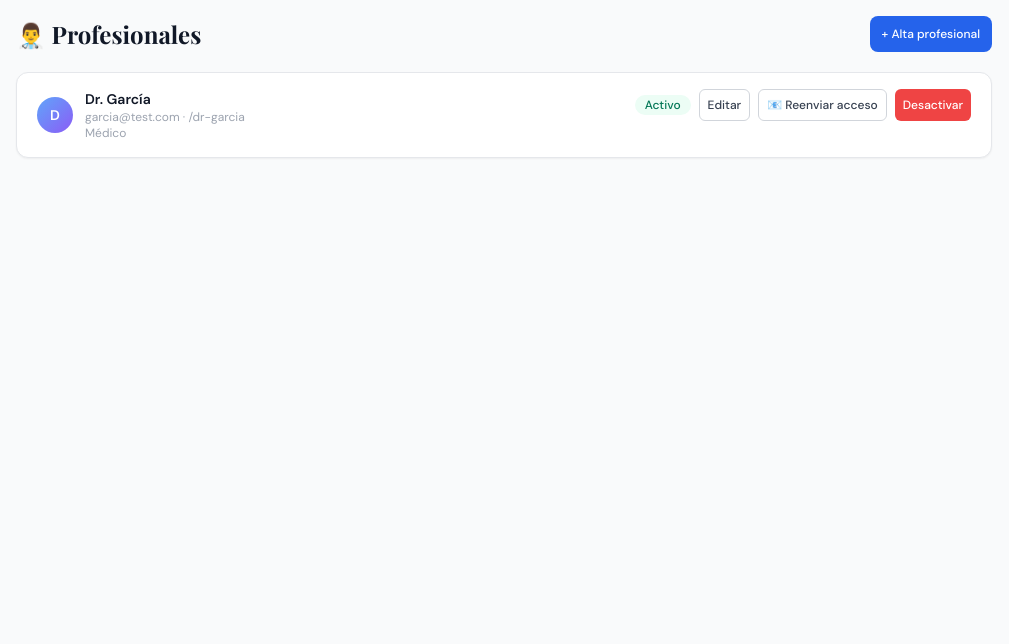
Test: ProfessionalsPage — edición de profesional › abre el formulario de edición con los datos precargados al hacer click en Editar
What coordinates should you click on to do the following:
click the button with aria-label "editar dr. garcía"
I would click on:
 (724, 105)
Its box is [699,89,750,121].
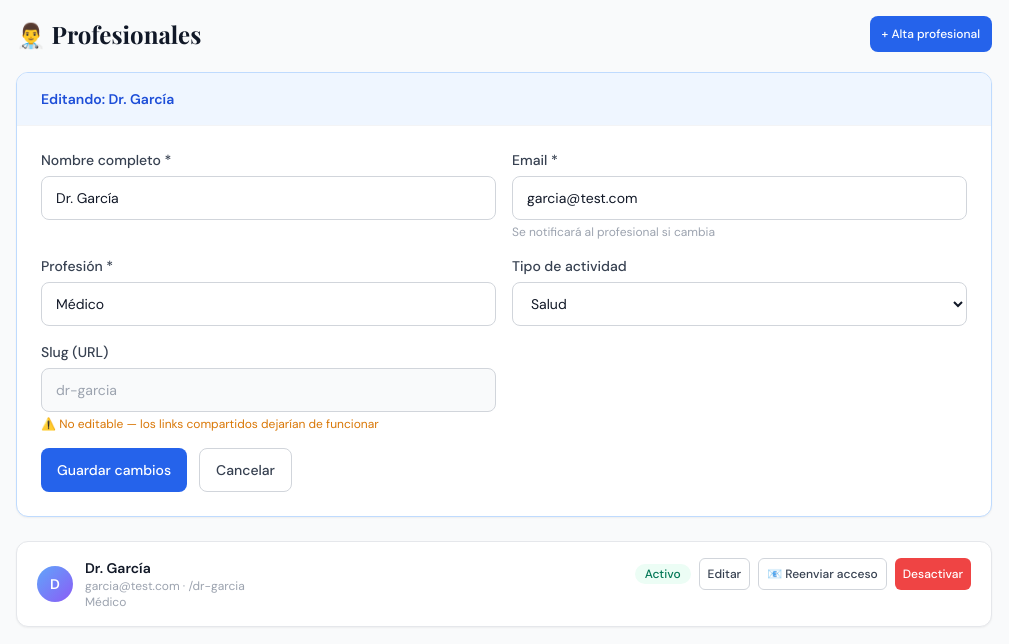
Expected: the field showing "Dr. García" below "Nombre completo *" is shown, [41,176,496,220]
Expected: the field showing "Médico" below "Profesión *" is shown, [41,282,496,326]
Expected: the field showing "dr-garcia" below "Slug (URL)" is shown, [41,368,496,412]
